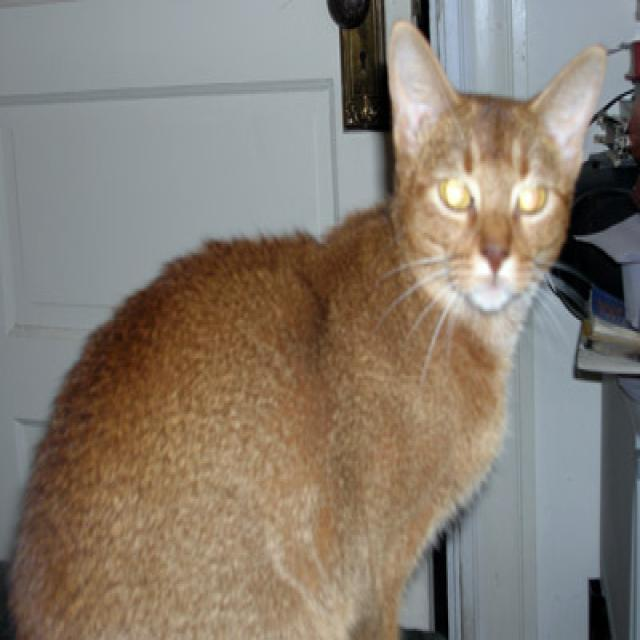Abyssinian: (386, 20, 607, 321)
